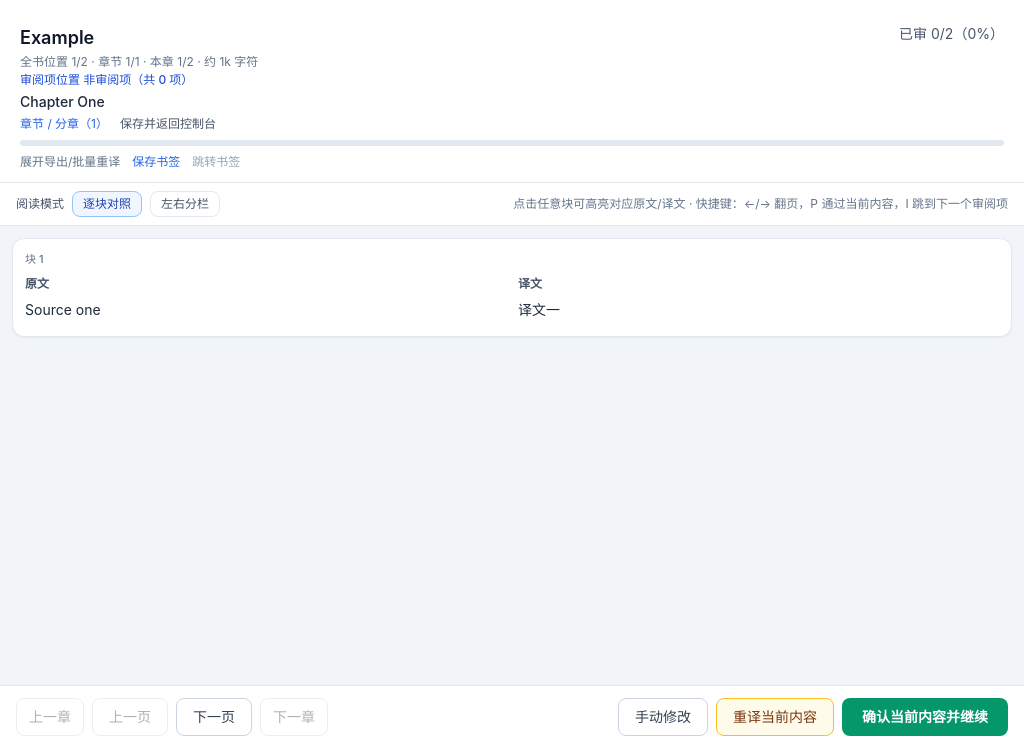
Test: Review draft navigation › flushes a dirty draft before moving to another page
The width and height of the screenshot is (1024, 748).
expect the text "Source one" is shown: met, box [25,300,101,318]
Click the button "手动修改" at (663, 717), box [618,698,708,736]
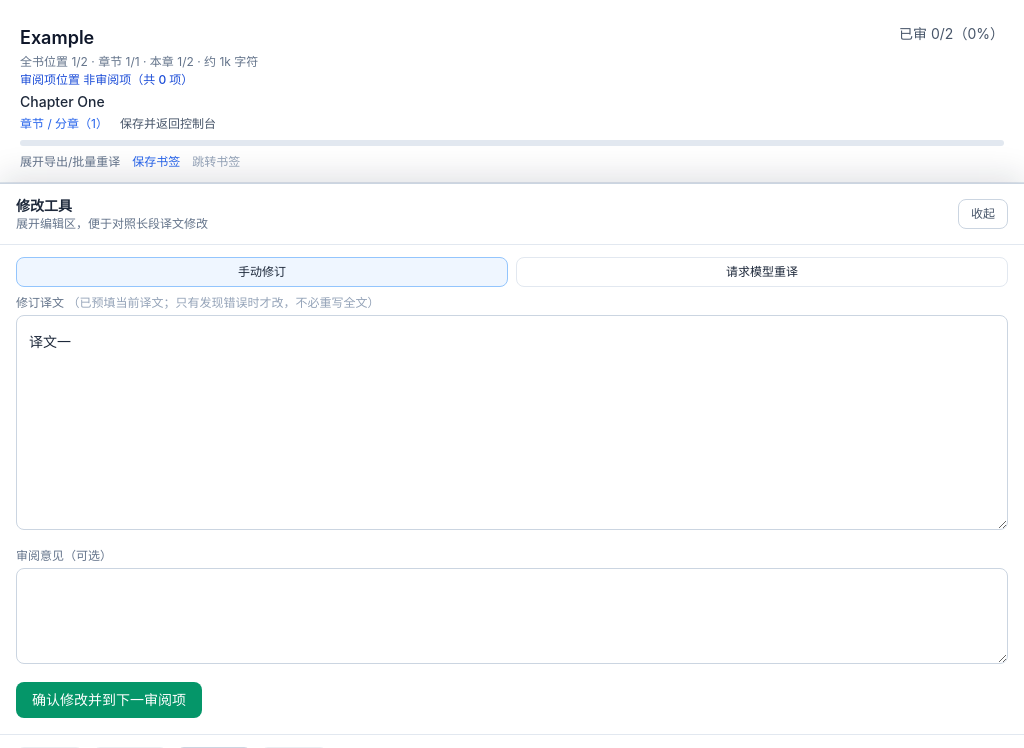
Replace the text in the 1st text box with "立即导航前保存的修订" at (512, 422), box [16,315,1008,530]
(page scrolled)
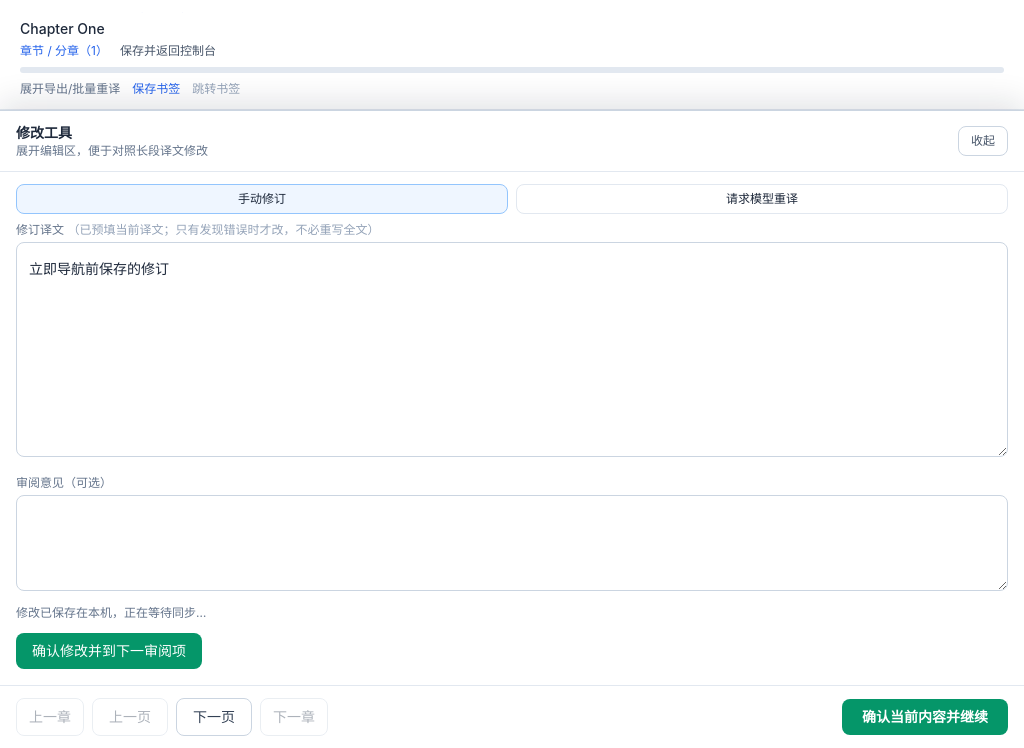
Click the button "下一页" at (214, 717), box [176,698,252,736]
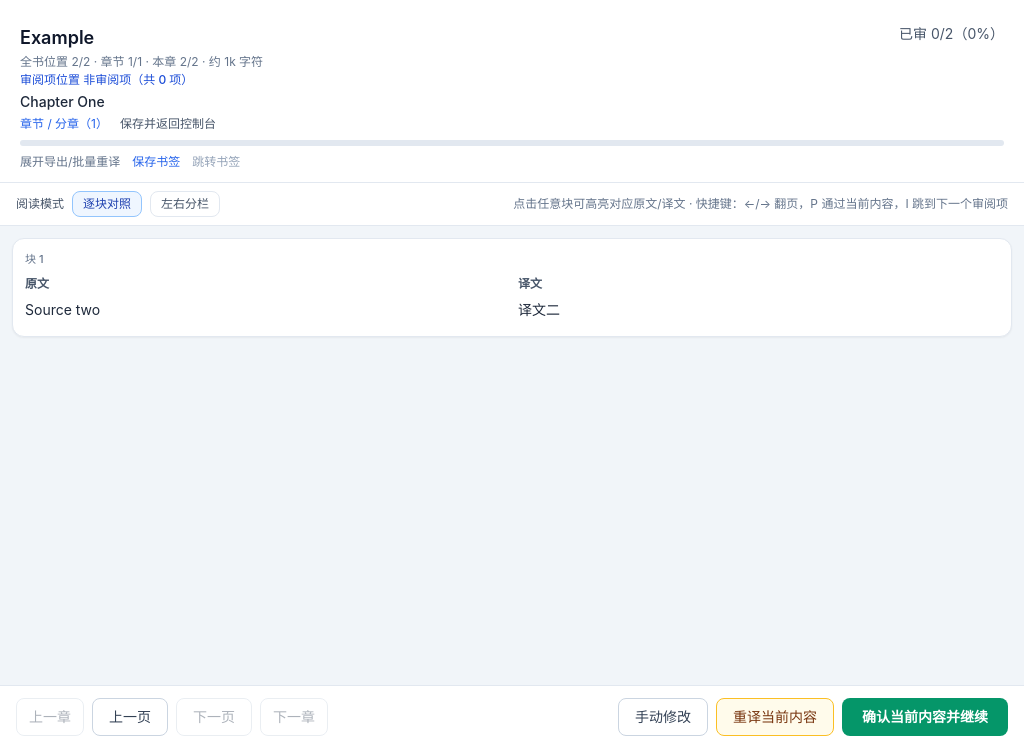
expect the text "Source two" is shown: met, box [25,300,100,318]
